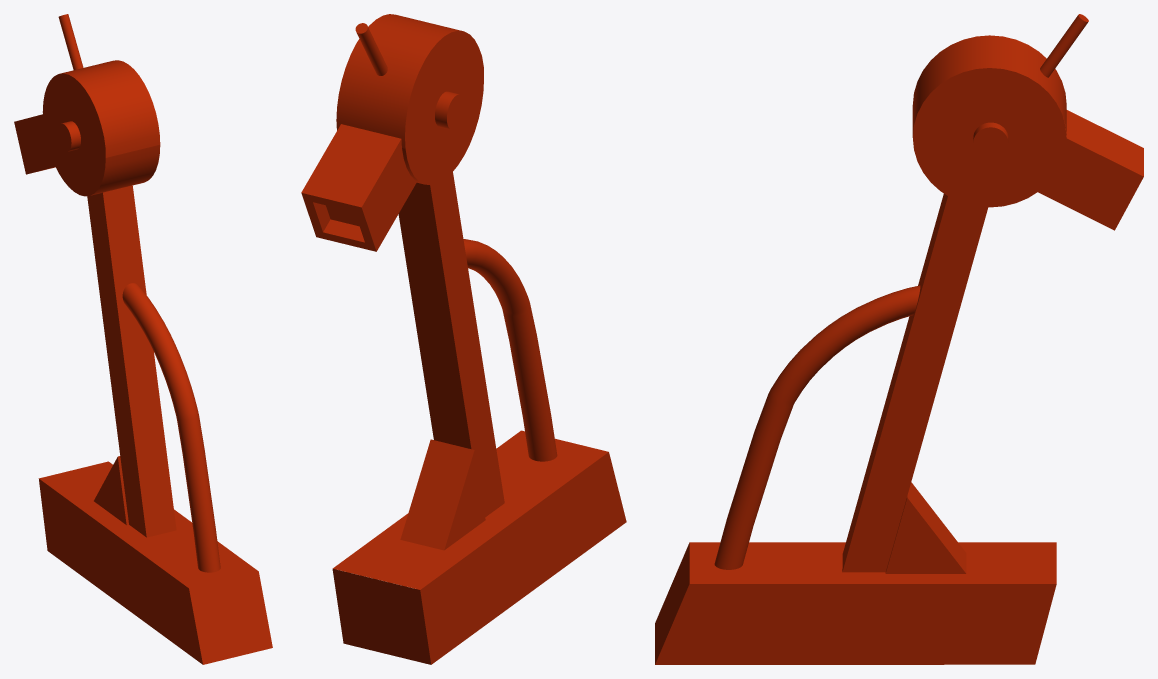
The model's file is Tahiti_Lamp.glb.
3 renders of one model, left to right at view 1: azimuth 30°, elevation 25°; view 2: azimuth 150°, elevation 25°; view 3: azimuth 270°, elevation 25°, orthographic. The views are drawn at different scales.
Visible parts, largest first — view 1: tahiti_lamp; view 2: tahiti_lamp; view 3: tahiti_lamp.
Boxes of the visible parts, x1=… form: tahiti_lamp: x1=14, y1=14, x2=272, y2=664; tahiti_lamp: x1=301, y1=14, x2=626, y2=664; tahiti_lamp: x1=655, y1=14, x2=1143, y2=664.
Bounding box in the file's own units: 0.0782 × 0.533 × 0.3751.
